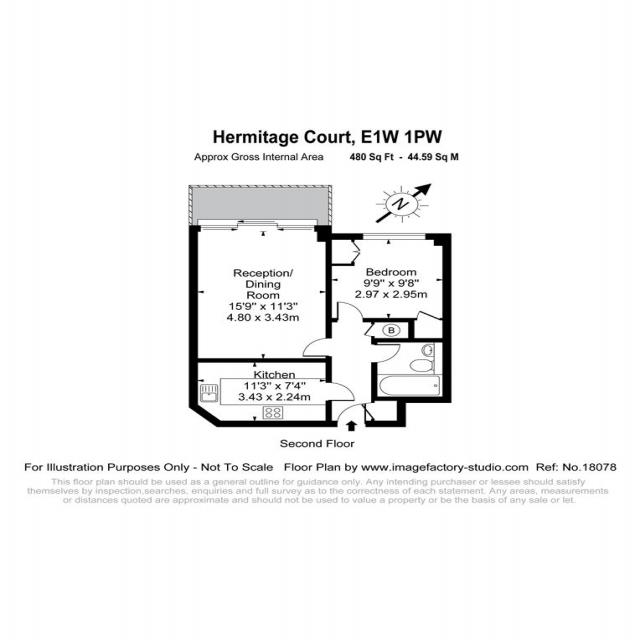DOOR: (336, 403, 368, 427), (325, 381, 356, 402), (370, 343, 401, 363), (301, 337, 332, 357), (336, 301, 364, 322)
ROOM: (189, 226, 333, 364), (317, 232, 452, 322), (188, 358, 357, 428)
WINDOW: (362, 233, 426, 240)
